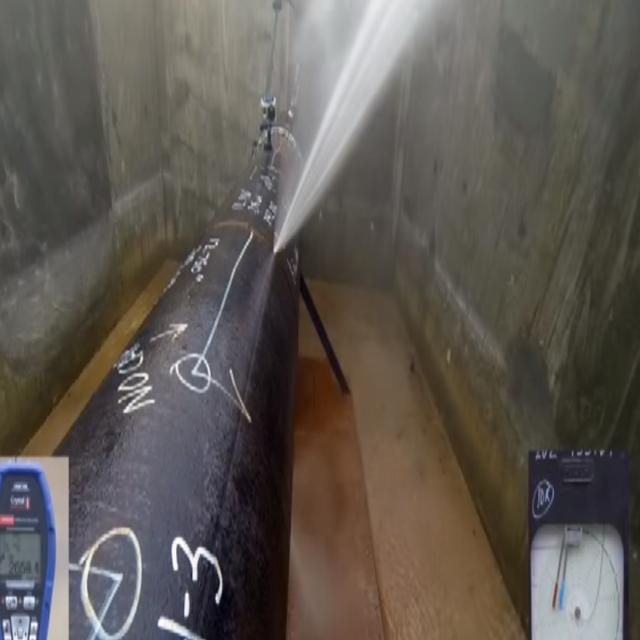leak: (274, 0, 426, 252)
